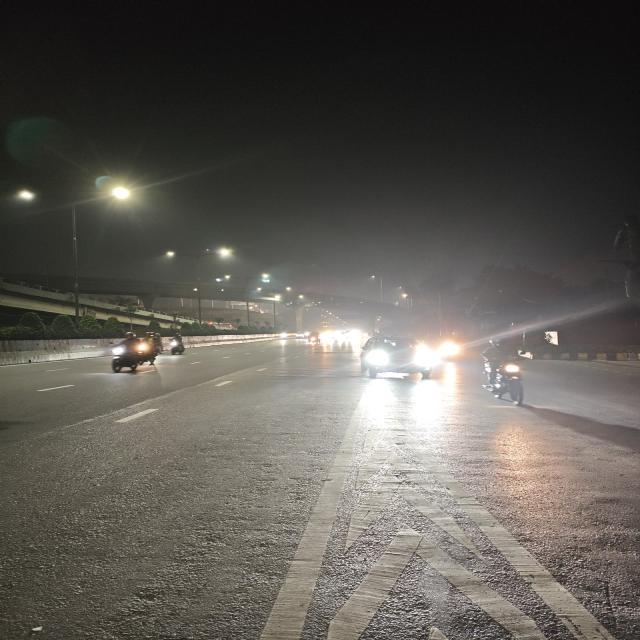car: (350, 333, 442, 383)
motorcycle: (96, 330, 168, 378), (479, 357, 538, 411)
